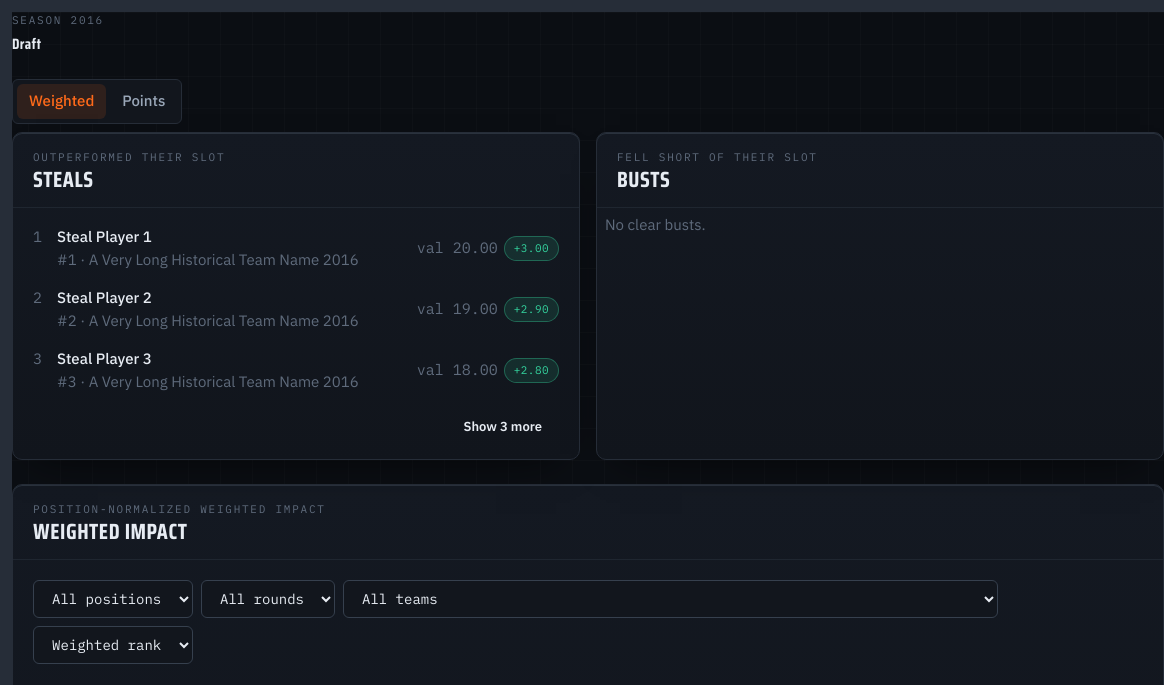
Scenario: DraftPage › expands each leaderboard three entries at a time and preserves dotted initials
Expected: the text "Steal Player 3" is shown, [57, 348, 152, 370]
Expected: the text "Steals" is shown, [33, 162, 94, 197]
Click the button "Show 3 more". click: {"x": 503, "y": 427}
box: [446, 407, 559, 446]
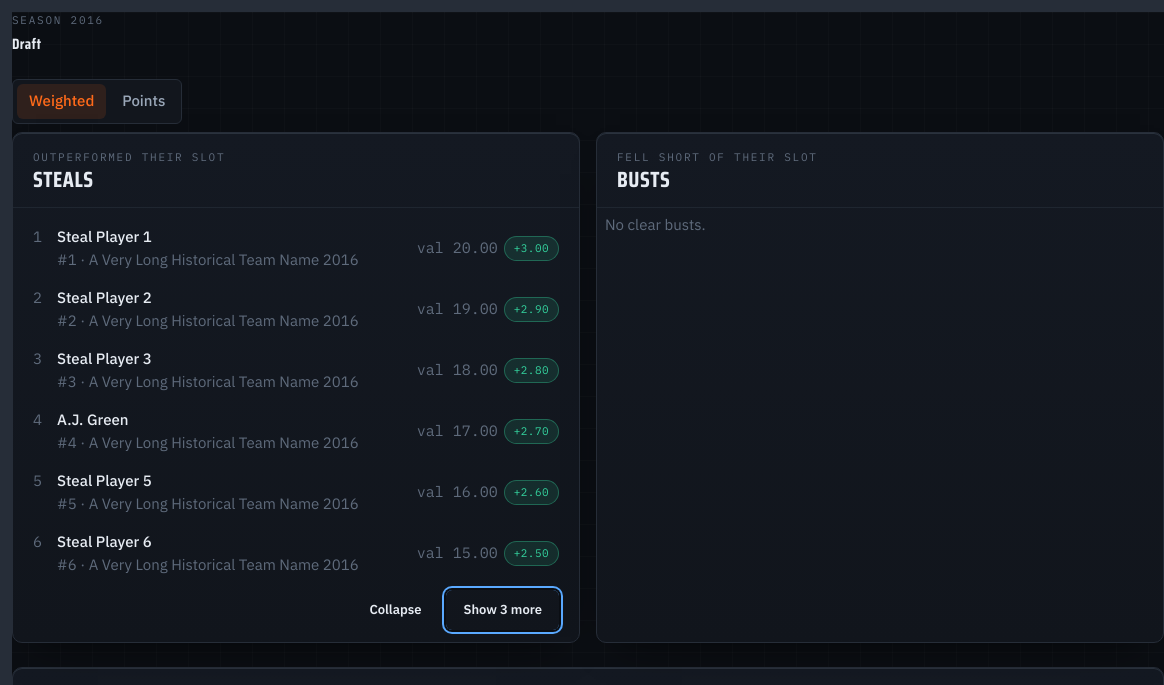
Result: the text "A.J. Green" is shown at [57, 409, 129, 432]
Result: the button "Collapse" is shown at [352, 590, 438, 630]
